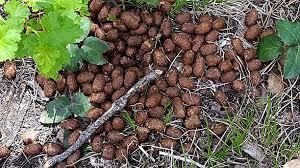Elk: (89, 9, 201, 133)
